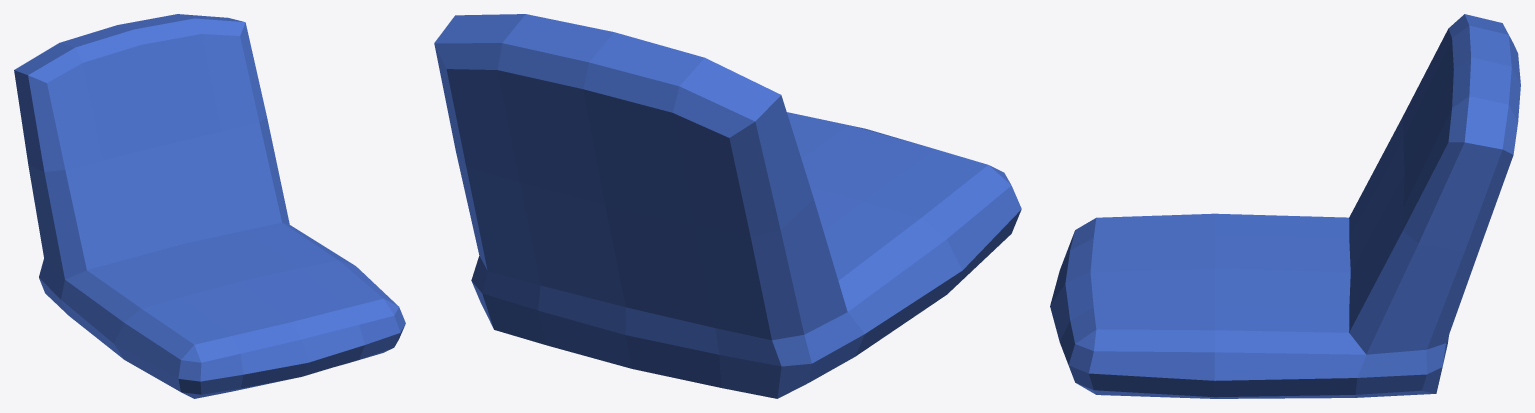
Rendered from Personal_Vehicle_02_Seat_Blue.fbx.
3 renders of one model, left to right at view 1: azimuth 30°, elevation 25°; view 2: azimuth 150°, elevation 25°; view 3: azimuth 270°, elevation 25°, orthographic. The views are drawn at different scales.
Parts seen in each view (by area): view 1: Personal_Vehicle_02_Seat_Blue; view 2: Personal_Vehicle_02_Seat_Blue; view 3: Personal_Vehicle_02_Seat_Blue.
Part boxes in pixels (x1,y1,x2,y2): Personal_Vehicle_02_Seat_Blue: (14,14,405,398); Personal_Vehicle_02_Seat_Blue: (434,14,1021,398); Personal_Vehicle_02_Seat_Blue: (1050,14,1520,398).
Bounding box in the file's own units: 71.75 × 64.43 × 95.77.
1 material, 1 textured.
